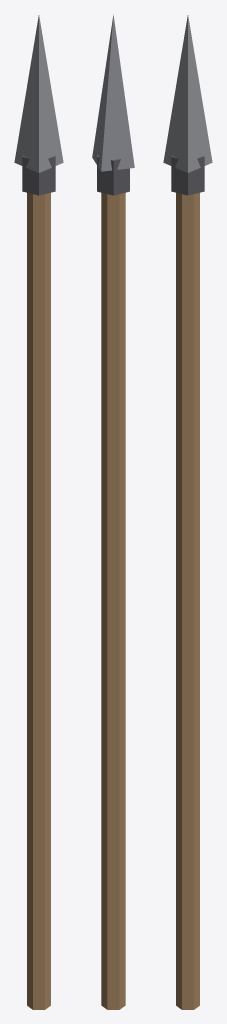
The model's file is tool_spear.glb.
3 views of the same model, side by side, from view 1: azimuth 90°, elevation 25°; view 2: azimuth 150°, elevation 25°; view 3: azimuth 270°, elevation 25° (orthographic).
Visible parts, largest first — view 1: Tool; view 2: Tool; view 3: Tool.
Boxes of the visible parts, <box> form: Tool: <box>14,15,63,1009</box>; Tool: <box>92,14,134,1009</box>; Tool: <box>163,15,212,1009</box>.
Bounding box in the file's own units: 0.09 × 2 × 0.09.
